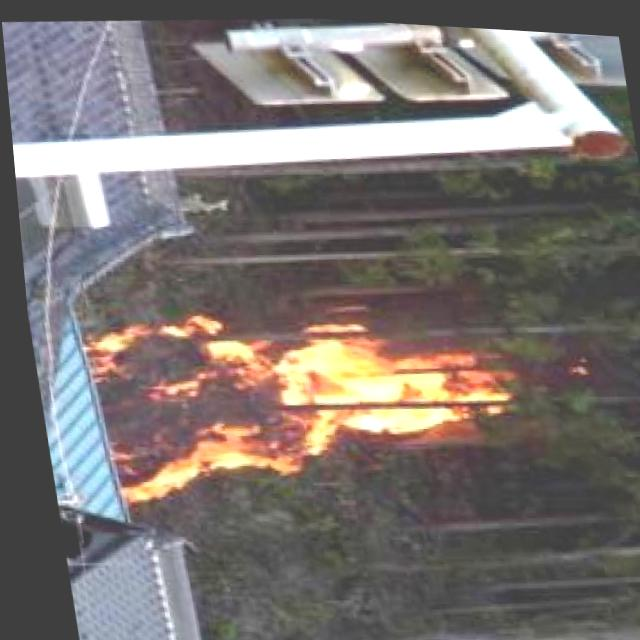helmet: (79, 292, 541, 504)
